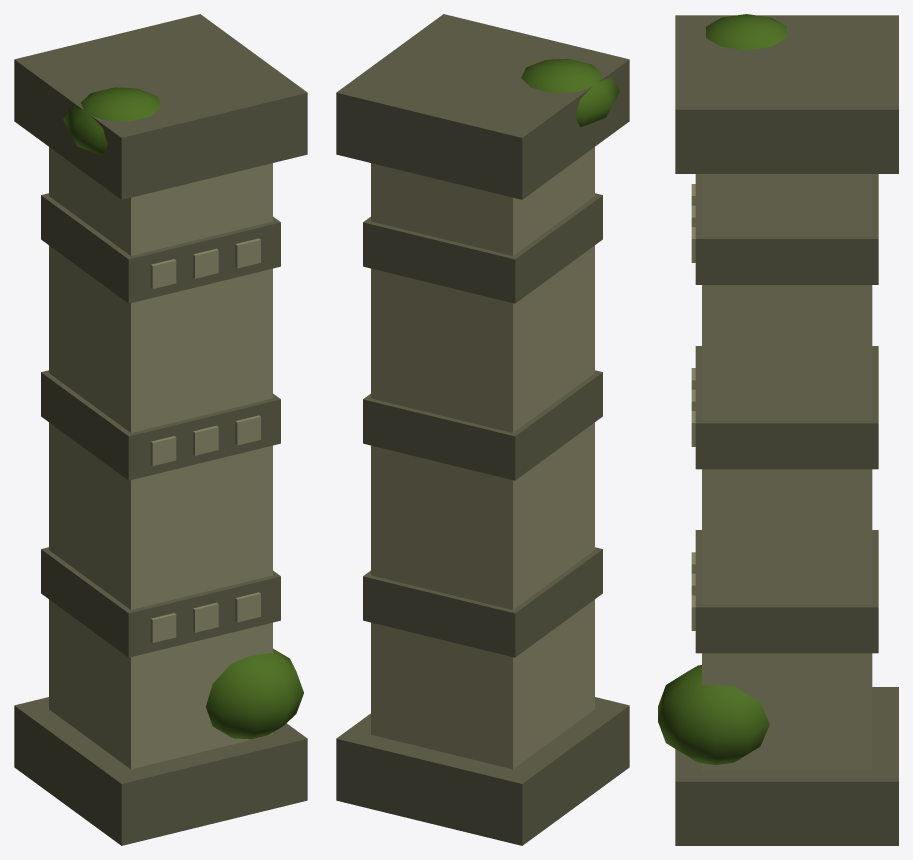
File: jg_carved_pillar.glb
3 views of the same model, side by side, from view 1: azimuth 30°, elevation 25°; view 2: azimuth 150°, elevation 25°; view 3: azimuth 270°, elevation 25° (orthographic). The views are drawn at different scales.
Parts seen in each view (by area): view 1: jg_carved_pillar; view 2: jg_carved_pillar; view 3: jg_carved_pillar.
Part boxes in pixels (x1,y1,x2,y2): jg_carved_pillar: (14,14,307,845); jg_carved_pillar: (336,14,629,845); jg_carved_pillar: (658,14,898,845).
Bounding box in the file's own units: 1.25 × 4.05 × 1.19.
